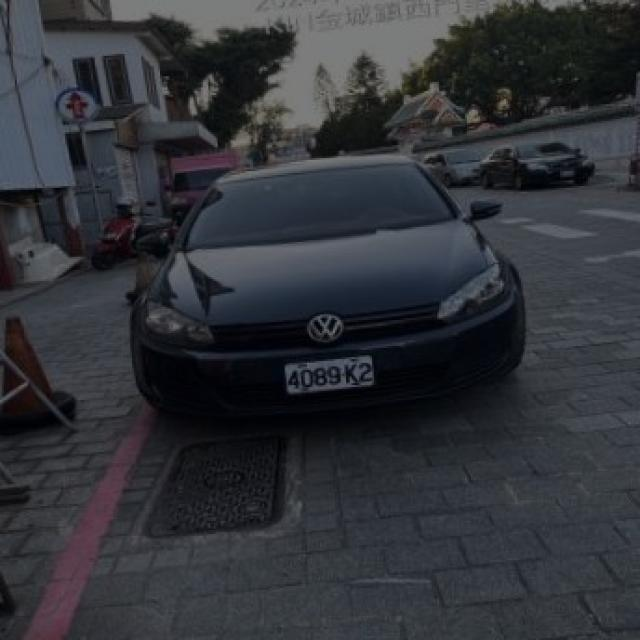illegalparking: (130, 156, 523, 417)
